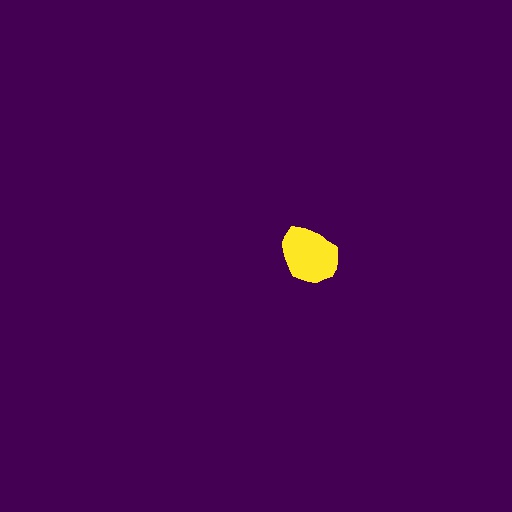Menigiomia_tumour: (282, 226, 338, 283)
